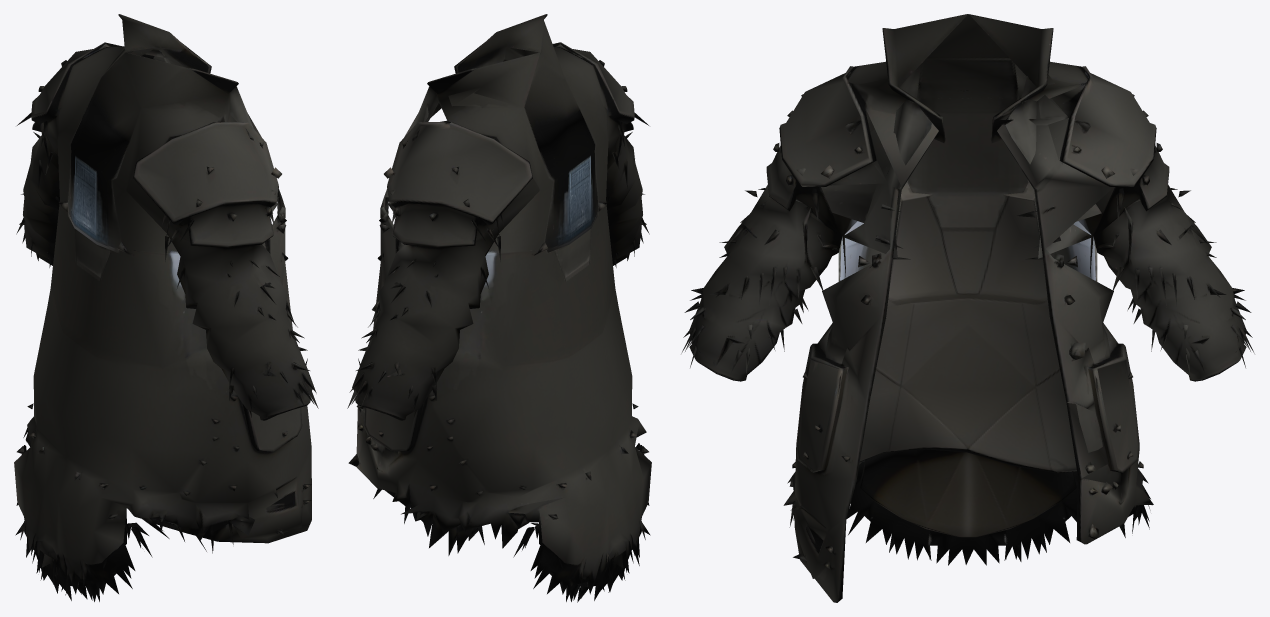
The model's file is boarhide_jack.glb.
The picture shows the model from 3 angles, left to right: view 1: azimuth 30°, elevation 25°; view 2: azimuth 150°, elevation 25°; view 3: azimuth 270°, elevation 25°; orthographic projection. The views are drawn at different scales.
Parts seen in each view (by area): view 1: base_model_path; view 2: base_model_path; view 3: base_model_path.
Boxes of the visible parts, x1,y1,x2,y2 form: base_model_path: [14, 14, 318, 601]; base_model_path: [347, 14, 651, 602]; base_model_path: [681, 14, 1254, 602].
Size of the model in its own units: 0.4269 by 0.9902 by 0.8713.
Materials: 1 (1 with a texture image).
